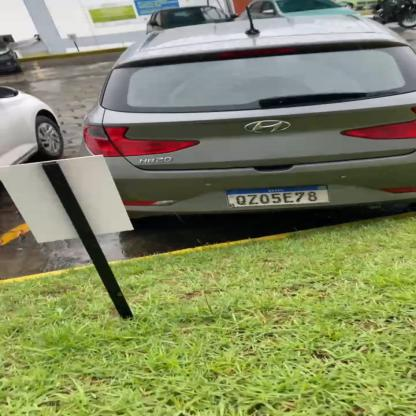Plate: (222, 181, 335, 207)
